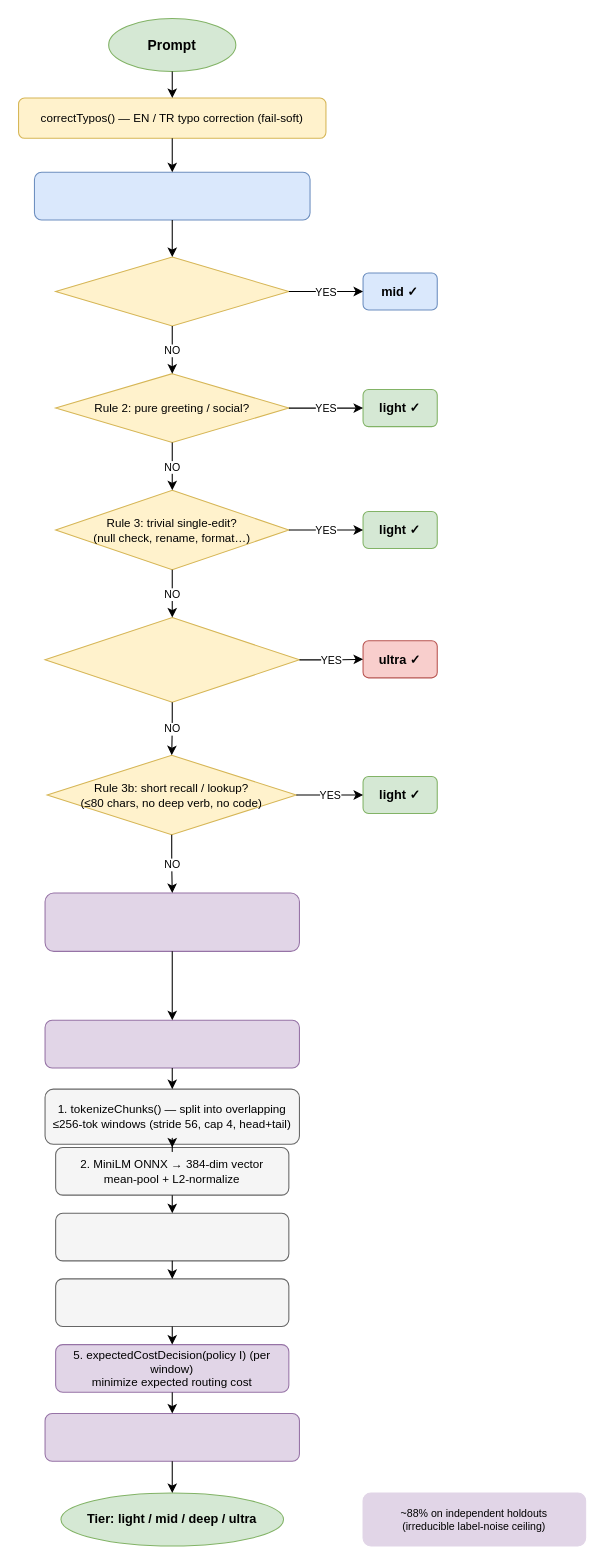
This 604x1565 diagram has some shape labels left out. Here are the shapes that lost their labels. From the top down, the centre of each, then its label:
At (171,195): "ruleClassify() — deterministic rule layer".
At (172,291): "Rule 1: empty or slash command?".
At (171,659): "Rule 4: ≥2 breadth words OR 3+ item enum OR ≥2 named subsystems?".
At (171,921): "Ambiguous residual — { confident: false } rules 1–4 exhausted, defer to ML head".
At (171,1043): "MiniLM-L6-v2 ONNX Pipeline".
At (172,1236): "3. Append lexical features (per window) (deepC, midC, scopeC, domainC)".
At (172,1302): "4. Ordinal regression head → tier posterior distribution".
At (171,1436): "6. Most-severe-tier-wins across windows (single window: pass through unchanged)".
